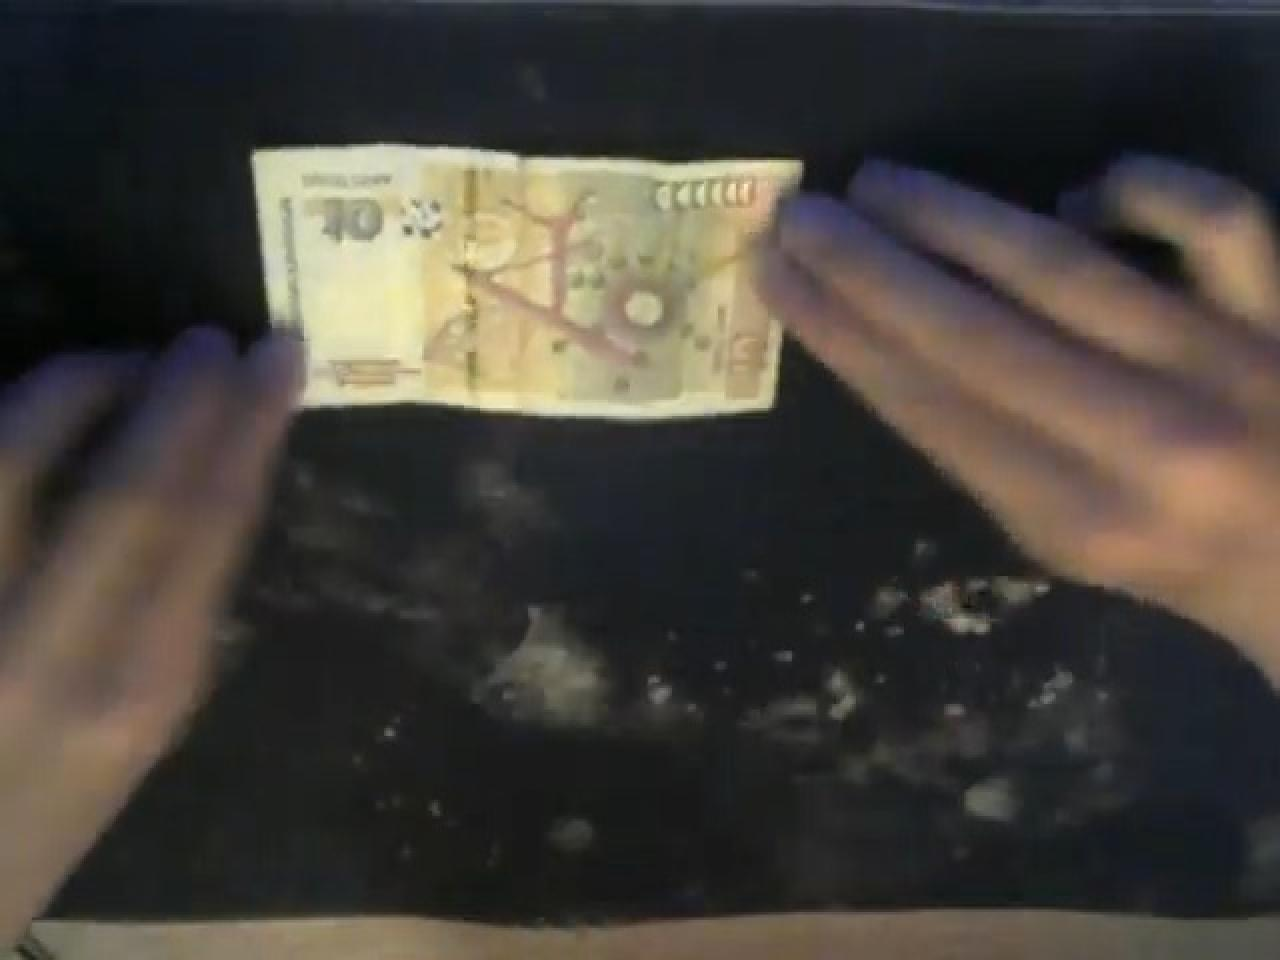10leva: (250, 139, 802, 418)
